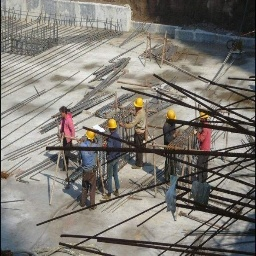helmet: (85, 128, 96, 142), (167, 107, 176, 122), (107, 119, 117, 129), (134, 98, 143, 109)
person: (79, 131, 99, 208), (105, 116, 121, 200), (133, 101, 146, 172)
